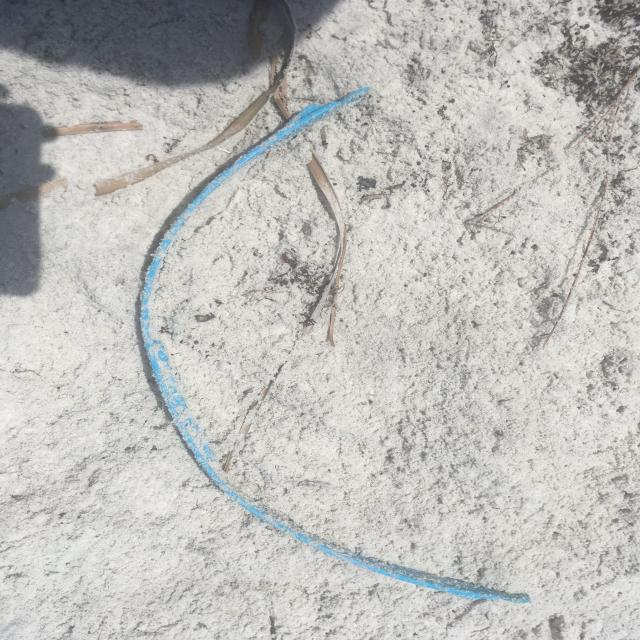litter: (141, 87, 530, 603)
